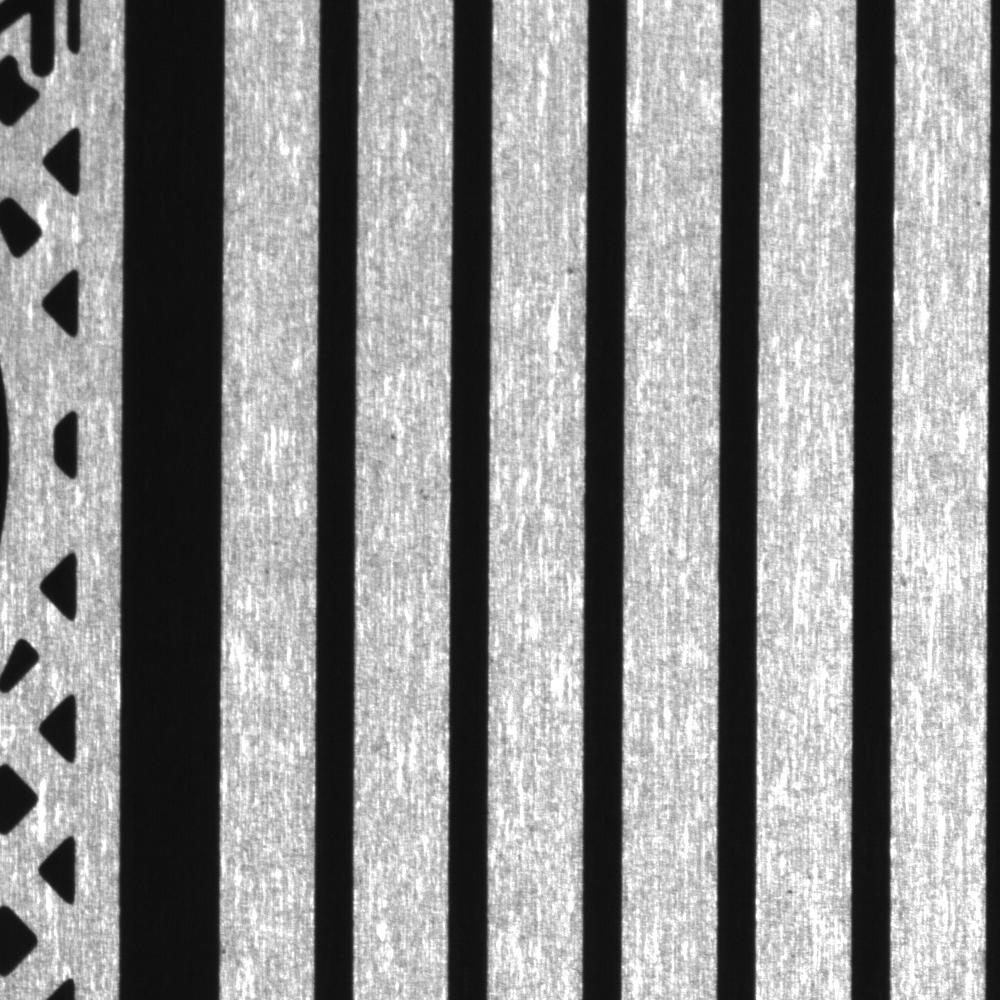Etching: (550, 253, 586, 290), (774, 879, 802, 902)
Pinhole: (381, 419, 405, 454)
